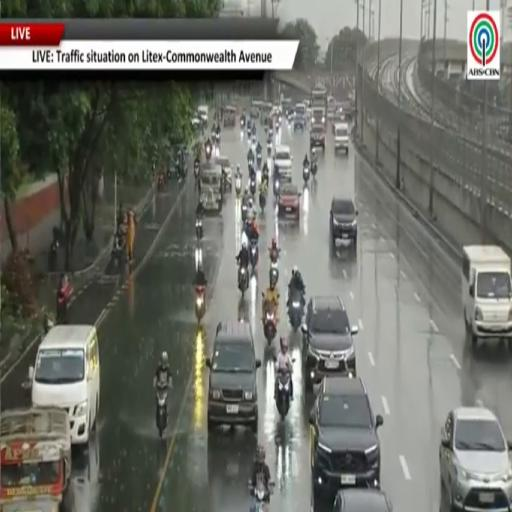car: (309, 377, 383, 509), (439, 407, 511, 510), (206, 322, 261, 433), (302, 296, 358, 391), (333, 488, 392, 511), (330, 198, 357, 247), (278, 183, 300, 220), (273, 146, 292, 181), (216, 155, 232, 191), (334, 122, 349, 154), (310, 124, 326, 151), (294, 104, 306, 132), (312, 105, 326, 126), (197, 105, 208, 124)
jeepney: (0, 408, 71, 511), (200, 164, 223, 213), (216, 155, 232, 191), (250, 100, 263, 119), (224, 106, 236, 126), (262, 102, 272, 119)
motorcycle: (249, 477, 274, 511), (276, 368, 291, 420), (156, 383, 168, 438), (288, 290, 303, 331), (264, 304, 276, 345), (111, 231, 125, 266), (56, 293, 69, 324), (48, 236, 59, 271), (195, 286, 205, 322), (238, 266, 249, 297), (250, 238, 258, 270), (195, 240, 202, 270), (270, 262, 278, 286), (196, 218, 203, 241), (259, 190, 266, 213), (158, 173, 165, 191), (236, 178, 242, 198), (206, 141, 212, 161), (262, 167, 269, 184), (273, 180, 279, 199), (311, 162, 318, 178), (303, 166, 309, 184), (242, 202, 247, 221), (250, 179, 255, 196), (194, 164, 199, 180), (215, 132, 220, 148), (256, 152, 261, 168), (267, 142, 272, 157), (248, 156, 254, 168), (247, 125, 251, 140), (276, 118, 281, 130), (240, 118, 245, 129), (252, 135, 256, 148), (268, 127, 273, 137)
truck: (462, 246, 511, 348), (311, 87, 327, 126), (311, 86, 327, 110)
